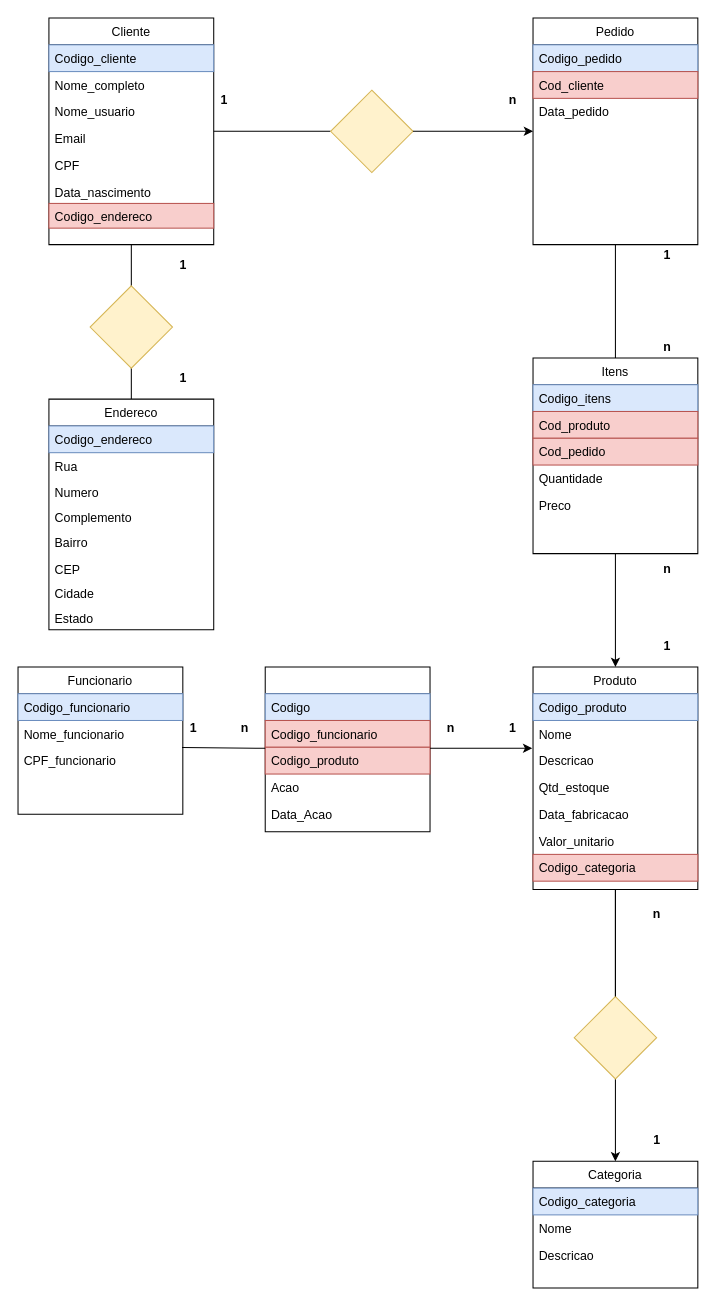
Image size: 716x1306. Some labels were removed from this diagram. Each missing label, with the box of its shape:
Efetua: (330, 89, 413, 173)
Funcionario_produto: (264, 666, 430, 832)
Pertence: (573, 995, 657, 1079)
Possui: (89, 285, 173, 368)
